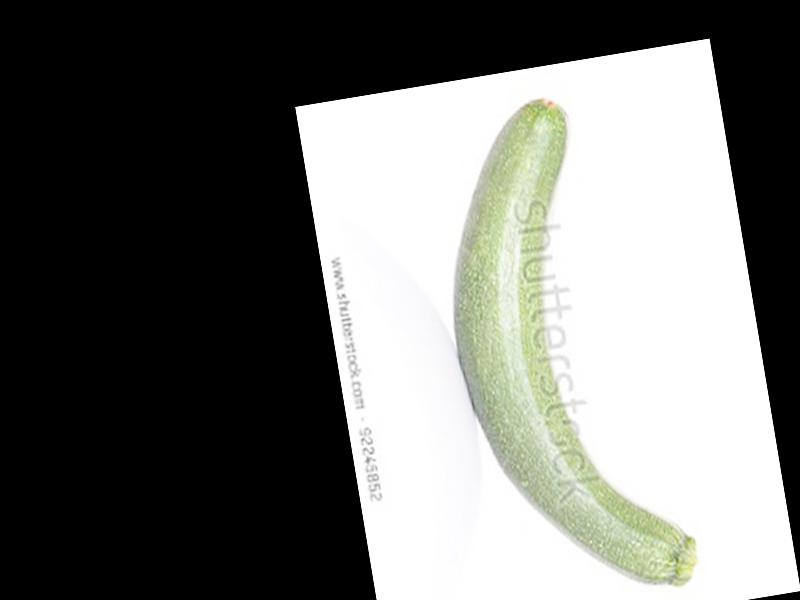Cucumber: (420, 85, 703, 600)
